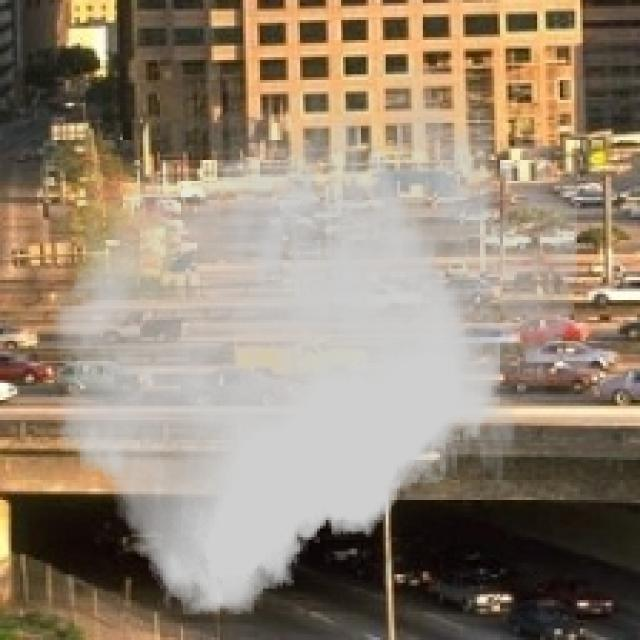Smoke: (51, 66, 578, 614)
